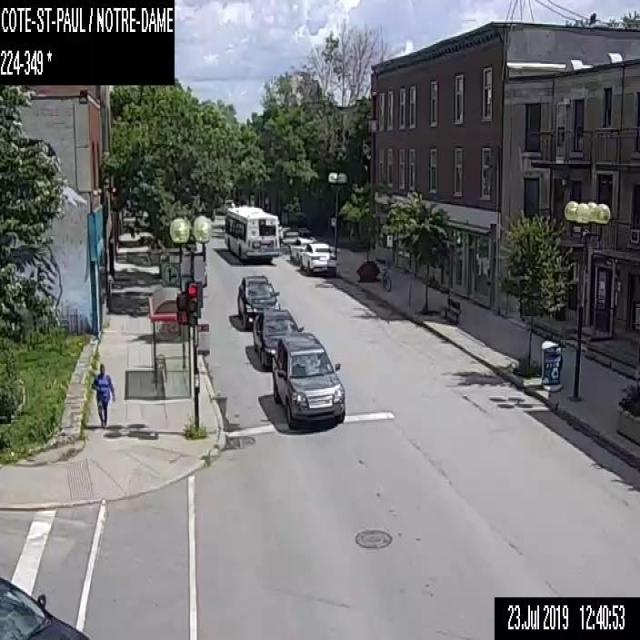bus: (224, 206, 279, 261)
pedestrian: (92, 362, 115, 426)
vehicle: (272, 332, 346, 427), (0, 574, 89, 638), (252, 308, 303, 368), (236, 274, 280, 327), (299, 242, 335, 276), (289, 236, 312, 262)
